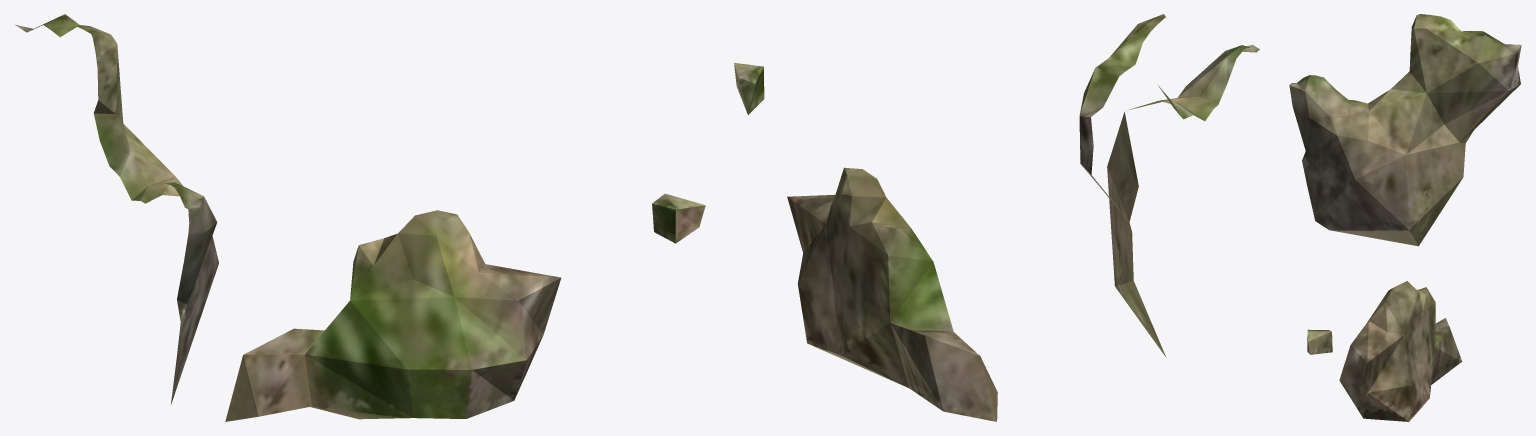
3 views of the same model, side by side, from view 1: azimuth 30°, elevation 25°; view 2: azimuth 150°, elevation 25°; view 3: azimuth 270°, elevation 25° (orthographic). The views are drawn at different scales.
Size of the model in its own units: 1.61 by 1.3 by 0.9244.
Materials: 1 (1 with a texture image).
